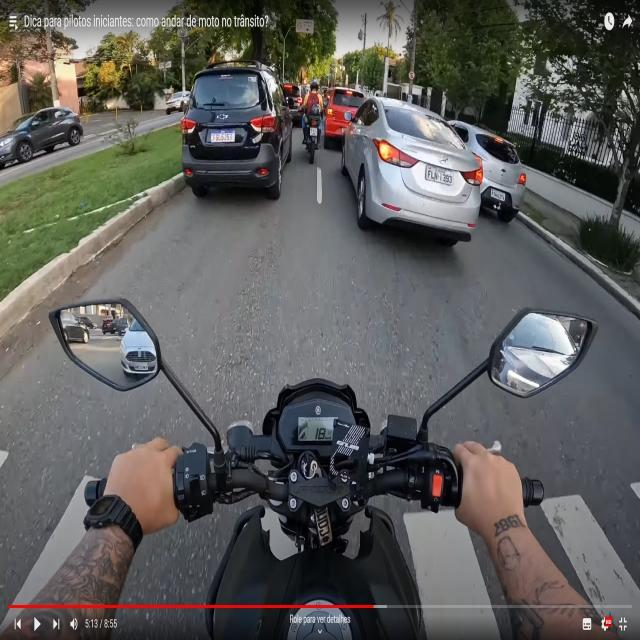Placa_mercosul_carro: (426, 164, 455, 185), (210, 128, 235, 142)
